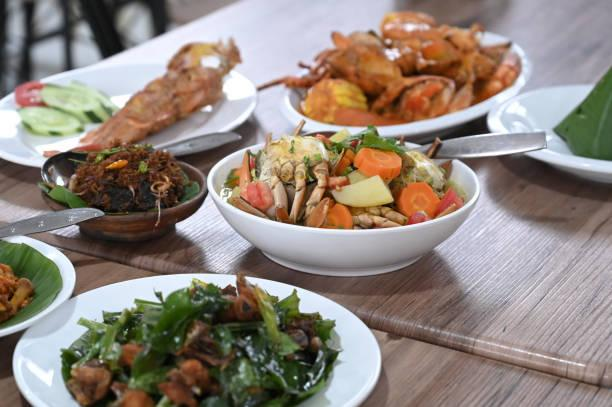Braised Crucian Carp: (12, 272, 379, 404), (207, 139, 478, 275), (0, 59, 253, 169), (281, 33, 529, 140), (43, 150, 208, 242)
